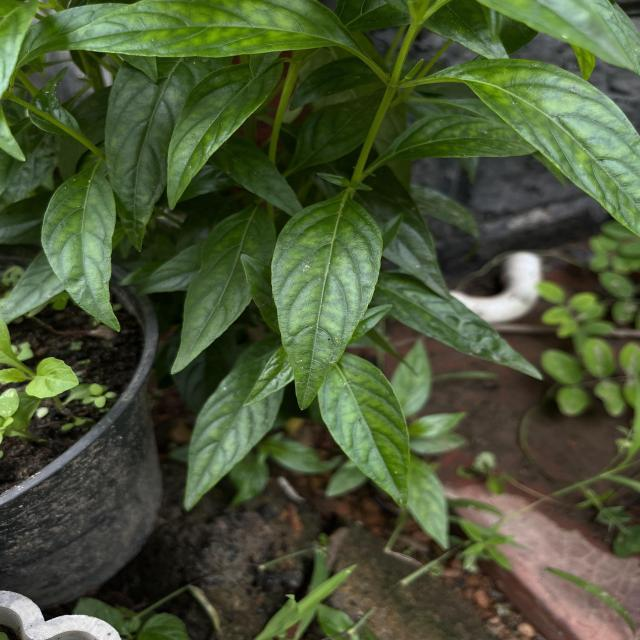Andrographis paniculata: (441, 51, 640, 241), (268, 191, 384, 412), (27, 0, 352, 63), (168, 201, 276, 376), (165, 56, 286, 212), (375, 272, 545, 381), (180, 352, 286, 512), (318, 351, 412, 511), (39, 158, 122, 334)
